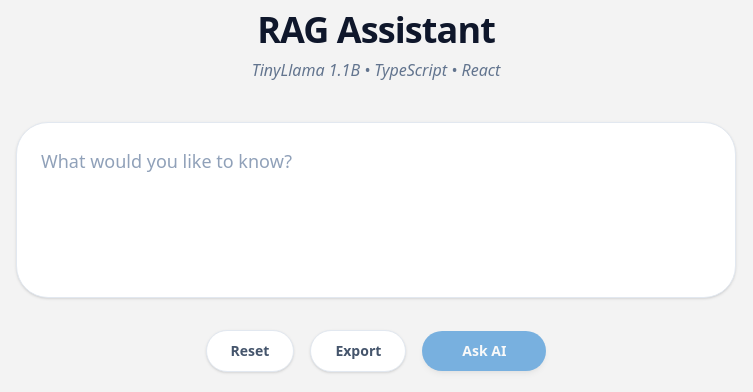
Test case: RAG Assistant UI Tests › Reset button clears the textarea
Step 1. Type "Some random text" into the text box with placeholder "What would you like to know?" → {"x": 376, "y": 207}, box 41,147 -> 711,267
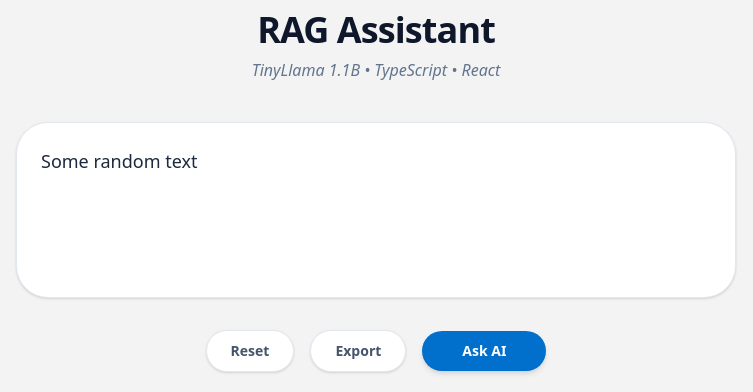
Step 2. Click the button "Reset" → {"x": 250, "y": 351}, box 206,330 -> 294,372
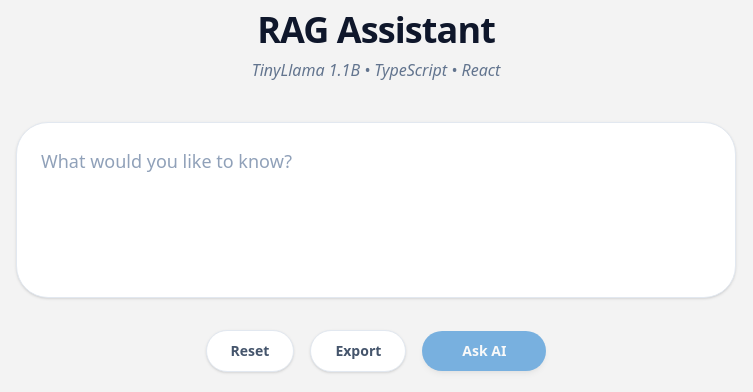
Check: the text box with placeholder "What would you like to know?" is empty, box 41,147 -> 711,267
